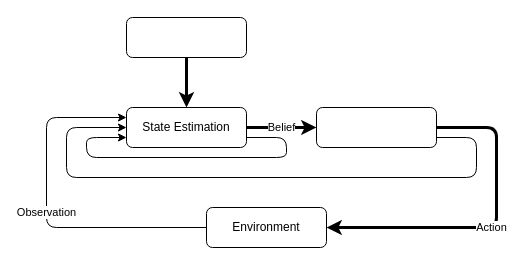
The diagram is 524 pixels wide and 265 high, and some of its shapes have lost their labels. Each missing label, with the box of its shape:
Controller: (316, 106, 436, 148)
Domain Knowledge: (126, 16, 246, 58)
